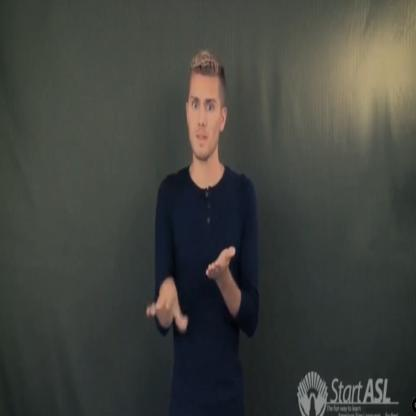Expensive: (144, 228, 238, 338)
